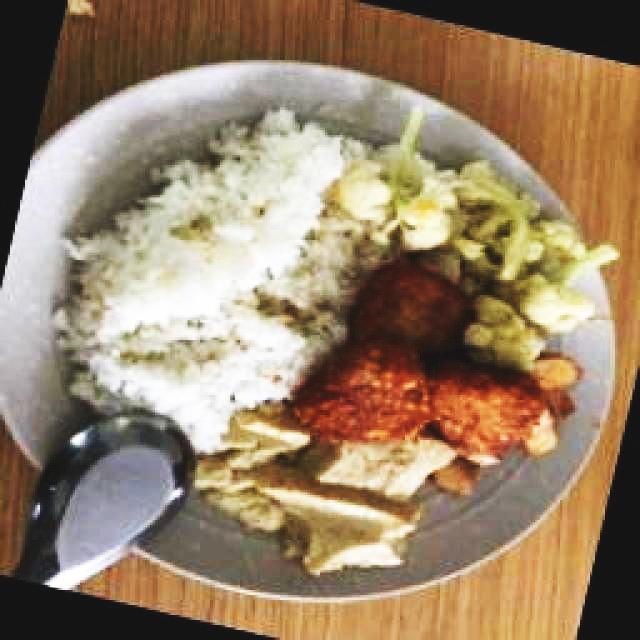chicken_nuggets: (301, 342, 431, 445), (427, 365, 545, 460), (351, 268, 473, 352)
rice: (75, 106, 344, 447)
